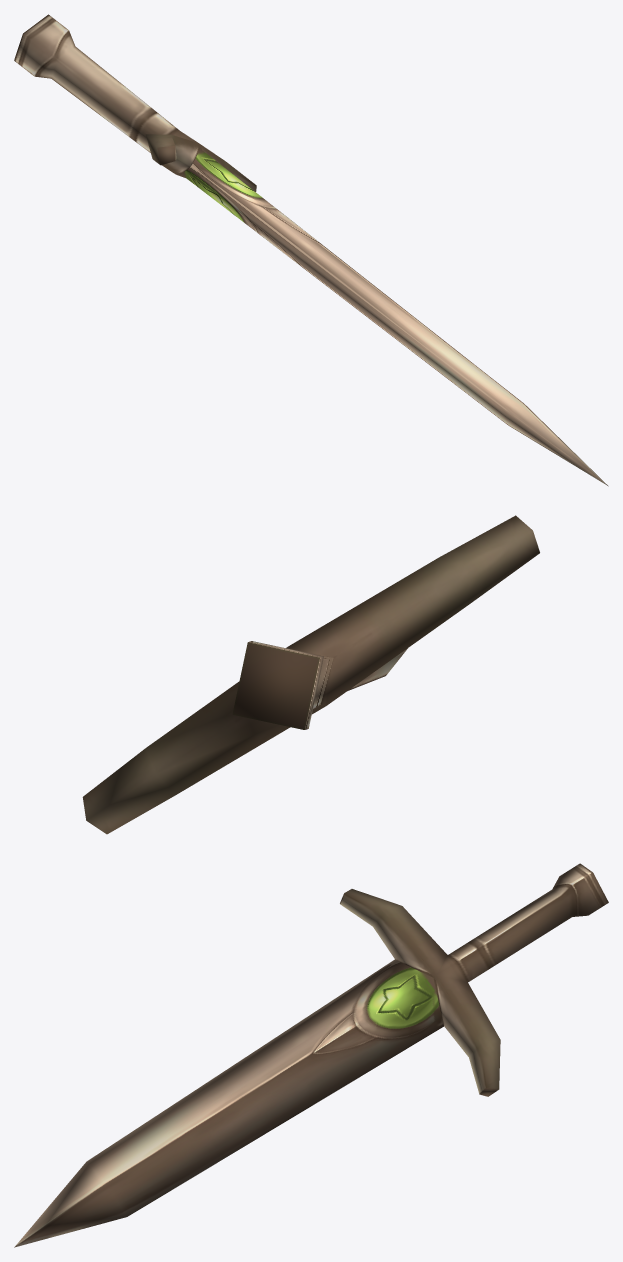
File: Sword(62).obj
3 views of the same model, one above another, from view 1: azimuth 30°, elevation 25°; view 2: azimuth 150°, elevation 25°; view 3: azimuth 270°, elevation 25° (orthographic). The views are drawn at different scales.
Parts seen in each view (by area): view 1: sword1_LOD003; view 2: sword1_LOD003; view 3: sword1_LOD003.
Part boxes in pixels (x1=…): sword1_LOD003: x1=14, y1=14, x2=608, y2=486; sword1_LOD003: x1=82, y1=515, x2=539, y2=834; sword1_LOD003: x1=14, y1=863, x2=608, y2=1247.
Bounding box in the file's own units: 0.5629 × 0.5835 × 1.17.
